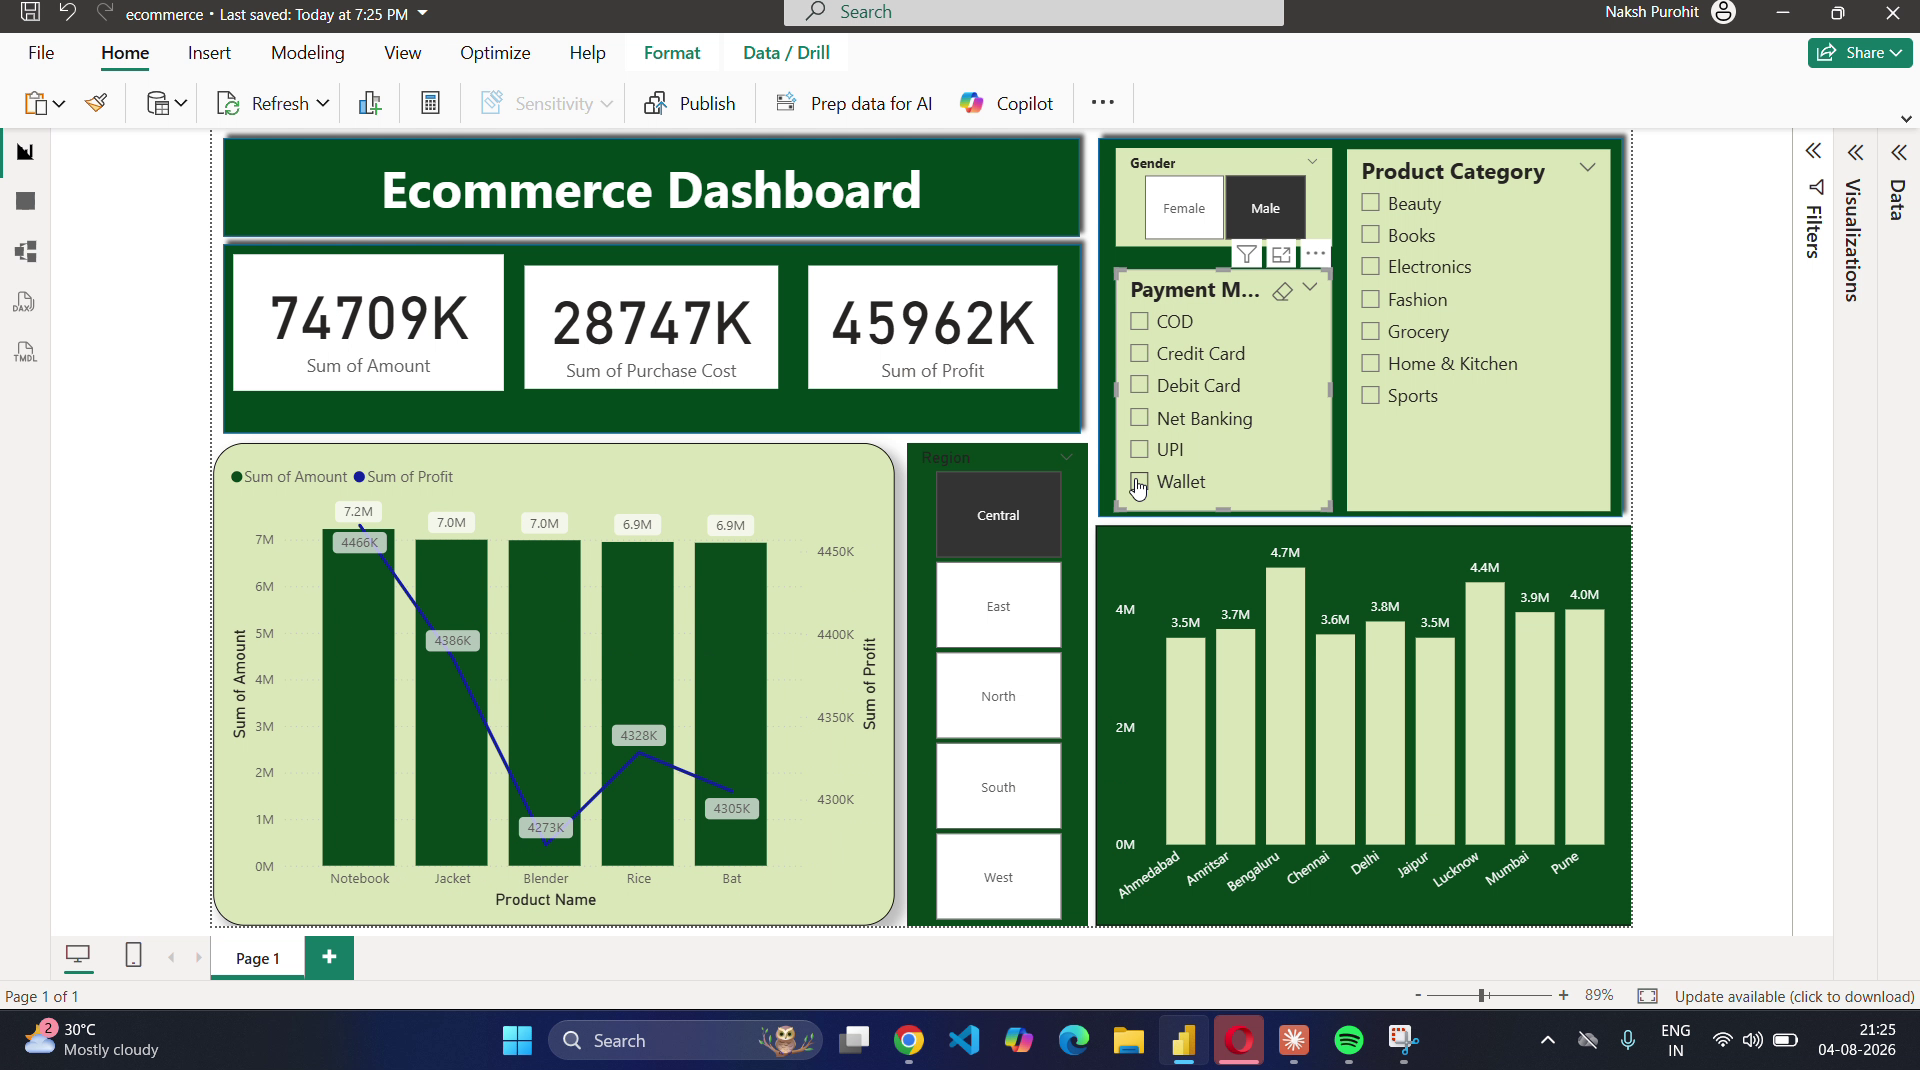

The page's visual inventory and layout, read from the dashboard file:
{"tool":"powerbi","page":{"name":"Page 1","canvas":[1280,720],"ordinal":0},"visuals":[{"type":"shape","box":[1.4,0,790.4,107],"z":0},{"type":"shape","box":[789.7,0,490.5,359.8],"z":1000},{"type":"shape","box":[1.3,95.7,791.1,188.7],"z":2000},{"type":"slicer","fields":{"Values":["Ecommerce Sales Data.Gender"]},"box":[815.1,17.8,194.9,89.2],"z":3000},{"type":"slicer","fields":{"Values":["Ecommerce Sales Data.Product Category"]},"box":[1023.7,19.2,237.4,326.6],"z":4000},{"type":"slicer","fields":{"Values":["Ecommerce Sales Data.Payment Method"]},"box":[815.1,127.6,194.9,218.2],"z":5000},{"type":"card","fields":{"Values":["Sum(Ecommerce Sales Data.Amount)"]},"box":[26.1,123.5,227.8,111.1],"z":6000},{"type":"card","fields":{"Values":["Sum(Ecommerce Sales Data.Purchase Cost)"]},"box":[281.3,123.5,229.2,111.1],"z":7000},{"type":"card","fields":{"Values":["Sum(Ecommerce Sales Data.Profit)"]},"box":[537.9,123.5,225,111.1],"z":8000},{"type":"card","fields":{"Values":["Sum(Ecommerce Sales Data.Amount)"]},"box":[19.2,113.9,244.3,123.5],"z":9000},{"type":"lineClusteredColumnComboChart","fields":{"Category":["Ecommerce Sales Data.Product Name"],"Y":["Sum(Ecommerce Sales Data.Amount)"],"Y2":["Sum(Ecommerce Sales Data.Profit)"]},"box":[1.3,284.4,614.5,435.3],"z":10000},{"type":"slicer","fields":{"Values":["Ecommerce Sales Data.Region"]},"box":[626.7,284.4,163.1,436.6],"z":11000},{"type":"lineClusteredColumnComboChart","fields":{"Y":["Sum(Ecommerce Sales Data.Amount)"],"Category":["Ecommerce Sales Data.Payment Method","Ecommerce Sales Data.City"]},"box":[796.5,358.5,483.8,361.2],"z":12000}]}

Visuals, with their boxes on the page's 1280x720 design canvas (x1, y1, x2, y2). These are canvas units, not pixel positions in the 1920x1070 screenshot, which may show the page scaled, cropped or inside an application window:
shape: select_region(1, 0, 792, 107)
shape: select_region(790, 0, 1280, 360)
shape: select_region(1, 96, 792, 284)
slicer - Ecommerce Sales Data.Gender: select_region(815, 18, 1010, 107)
slicer - Ecommerce Sales Data.Product Category: select_region(1024, 19, 1261, 346)
slicer - Ecommerce Sales Data.Payment Method: select_region(815, 128, 1010, 346)
card - Sum(Ecommerce Sales Data.Amount): select_region(26, 124, 254, 235)
card - Sum(Ecommerce Sales Data.Purchase Cost): select_region(281, 124, 510, 235)
card - Sum(Ecommerce Sales Data.Profit): select_region(538, 124, 763, 235)
card - Sum(Ecommerce Sales Data.Amount): select_region(19, 114, 264, 237)
lineClusteredColumnComboChart - Ecommerce Sales Data.Product Name x Sum(Ecommerce Sales Data.Amount): select_region(1, 284, 616, 720)
slicer - Ecommerce Sales Data.Region: select_region(627, 284, 790, 721)
lineClusteredColumnComboChart - Sum(Ecommerce Sales Data.Amount) x Ecommerce Sales Data.Payment Method: select_region(796, 358, 1280, 720)
